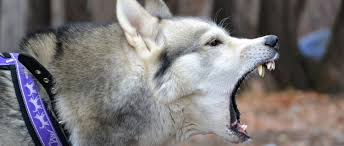Bulldog: (16, 7, 288, 126)
